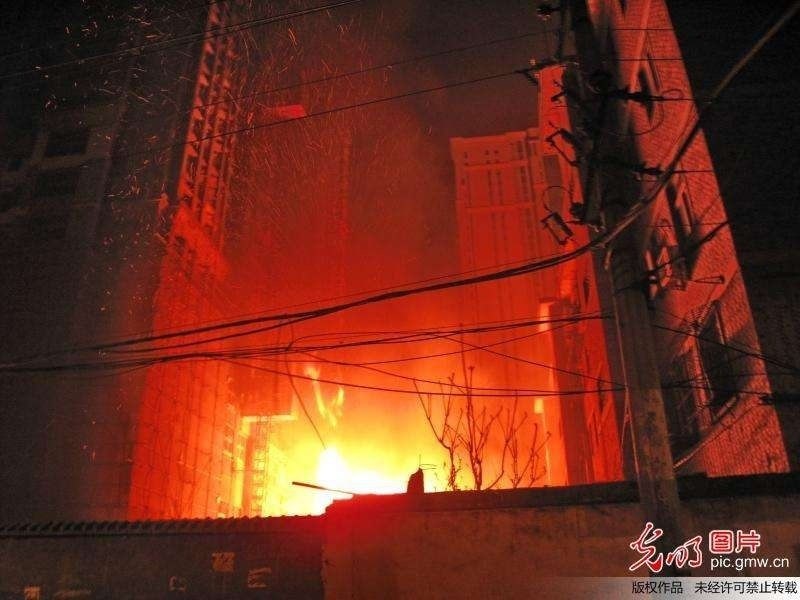fire: (280, 439, 407, 514), (298, 363, 346, 422)
